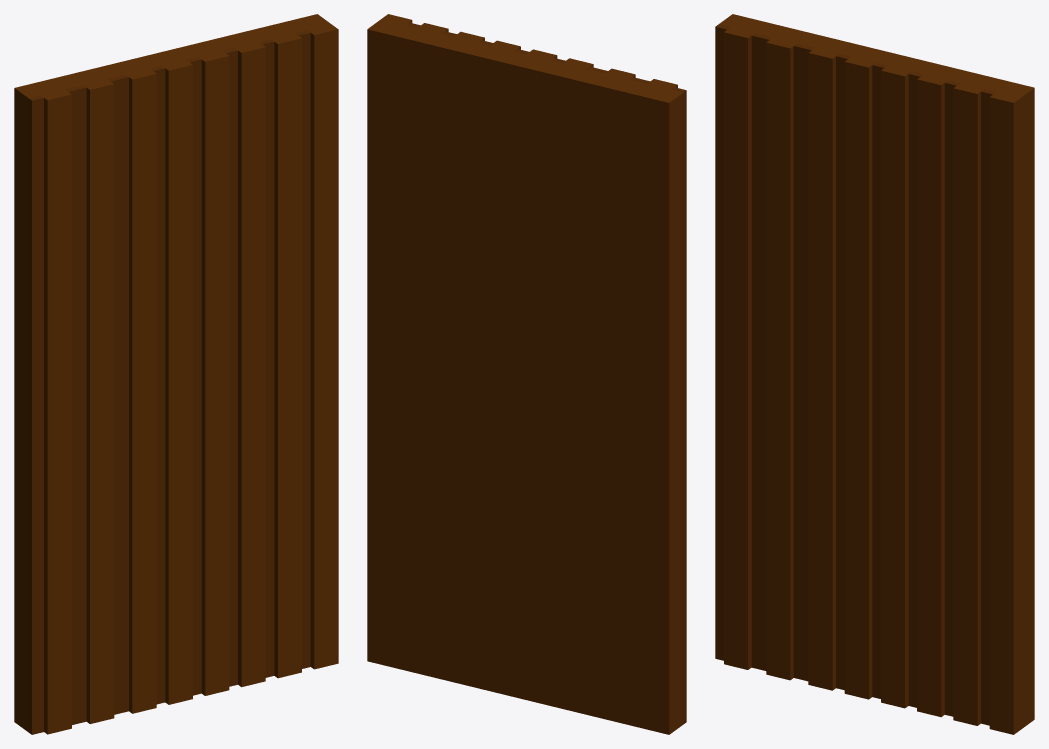
File: Wall_Half_Left.obj
The picture shows the model from 3 angles, left to right: view 1: azimuth 30°, elevation 25°; view 2: azimuth 150°, elevation 25°; view 3: azimuth 330°, elevation 25°; orthographic projection.
Bounding box in the file's own units: 5 × 10 × 0.6.
Materials: 1 (1 with a texture image).
